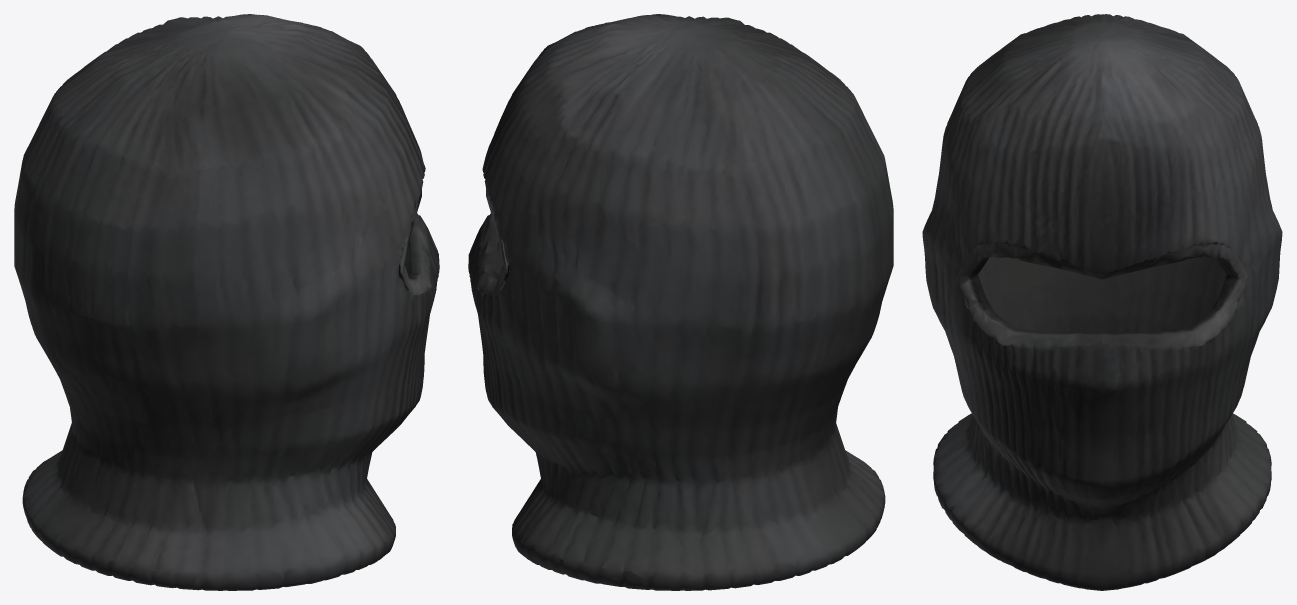
File: mascara_balaclava.glb
3 renders of one model, left to right at view 1: azimuth 30°, elevation 25°; view 2: azimuth 150°, elevation 25°; view 3: azimuth 270°, elevation 25°, orthographic. The views are drawn at different scales.
Parts seen in each view (by area): view 1: tripo_node_b0e4445d-18c1-466a-82ec-5a03bbd1eab8; view 2: tripo_node_b0e4445d-18c1-466a-82ec-5a03bbd1eab8; view 3: tripo_node_b0e4445d-18c1-466a-82ec-5a03bbd1eab8.
Part boxes in pixels (x1,y1,x2,y2): tripo_node_b0e4445d-18c1-466a-82ec-5a03bbd1eab8: [14, 14, 439, 590]; tripo_node_b0e4445d-18c1-466a-82ec-5a03bbd1eab8: [468, 14, 893, 590]; tripo_node_b0e4445d-18c1-466a-82ec-5a03bbd1eab8: [922, 14, 1282, 590].
Bounding box in the file's own units: 0.8047 × 1 × 0.6653.
Materials: 1 (1 with a texture image).
